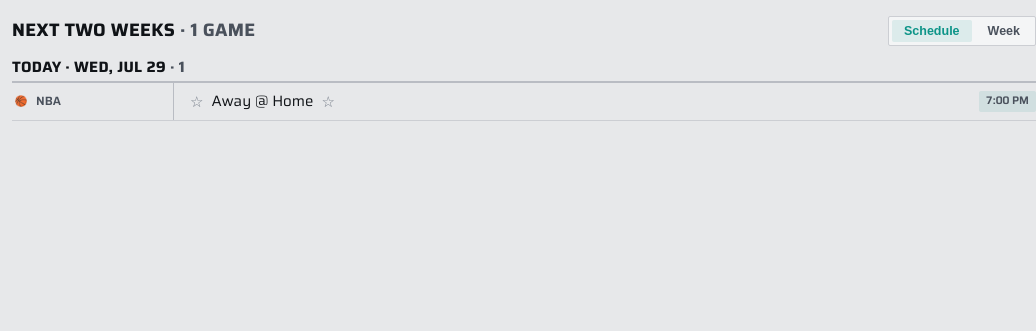
Scenario: UpcomingSchedule › layout toggle › switches to the week grid and remembers the choice
Click the tab "Week": [1004, 31] box [976,20,1032,42]
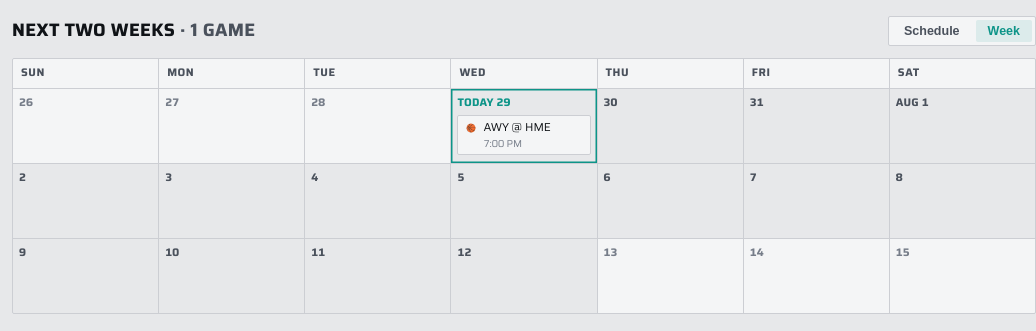
Now the table is shown
